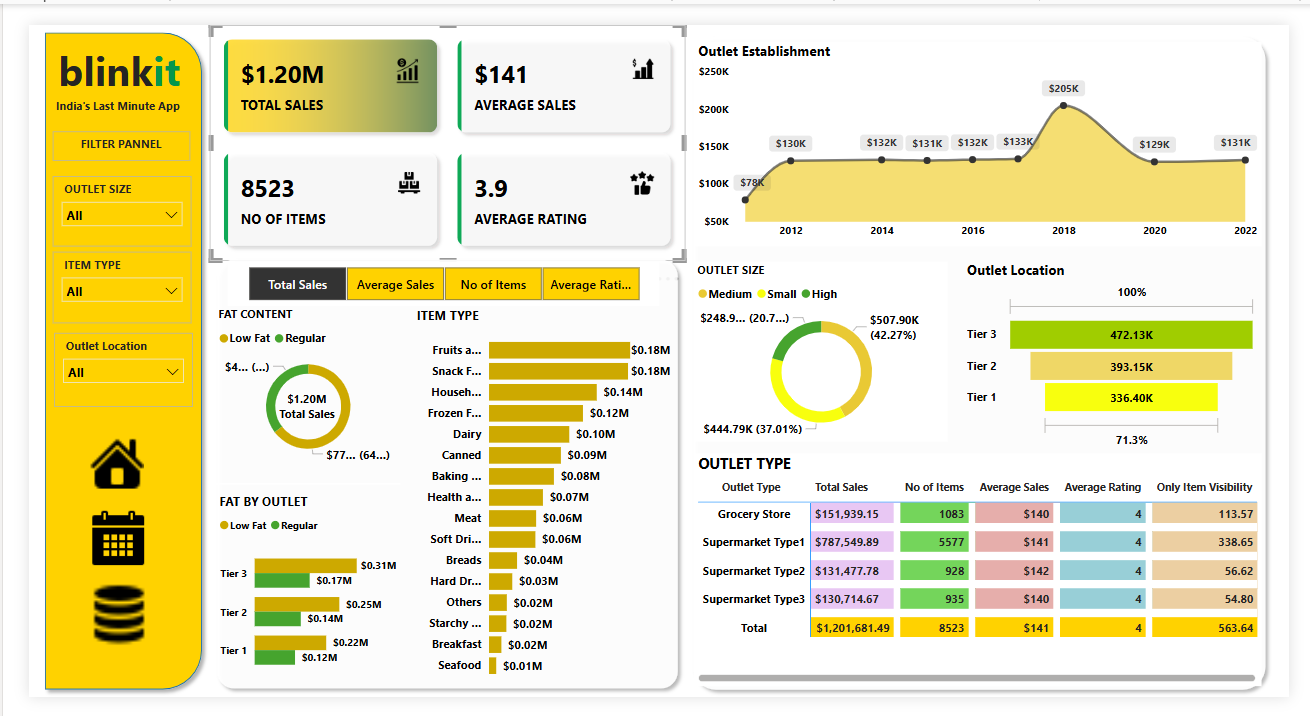

What the dashboard file says about the page in this screenshot:
{"tool":"powerbi","page":{"name":"Blinkit_Sales","canvas":[1500,800],"ordinal":0},"visuals":[{"type":"shape","box":[9.6,0,204.8,800.2],"z":0},{"type":"textbox","box":[24,14.4,168,112],"z":1000},{"type":"textbox","box":[24,81.6,171.2,44.8],"z":2000},{"type":"cardVisual","fields":{"Data":["BlinkIT Grocery Data.Total Sales","BlinkIT Grocery Data.Average Sales","BlinkIT Grocery Data.No of Items","BlinkIT Grocery Data.Average Rating"]},"box":[214.5,0,566.5,281.7],"z":3000},{"type":"shape","box":[214.5,270.5,566.5,529],"z":4000},{"type":"slicer","fields":{"Values":["Matrics.Matrics"]},"box":[236.9,281.7,513.7,52.8],"z":5000},{"type":"donutChart","title":"FAT CONTENT","fields":{"Y":["BlinkIT Grocery Data.Total Sales"],"Category":["BlinkIT Grocery Data.Item Fat Content"]},"box":[220.9,334.5,220.9,190.4],"z":6000},{"type":"cardVisual","fields":{"Data":["BlinkIT Grocery Data.Total Sales"]},"box":[273.7,411.3,115.2,84.8],"z":7000},{"type":"clusteredBarChart","title":"FAT BY OUTLET","fields":{"Y":["BlinkIT Grocery Data.Total Sales"],"Category":["BlinkIT Grocery Data.Outlet Location Type"],"Series":["BlinkIT Grocery Data.Item Fat Content"]},"box":[220.9,556.9,220.9,230.5],"z":8000},{"type":"shape","box":[214.5,534.5,227.3,22.4],"z":9000},{"type":"barChart","title":"ITEM TYPE","fields":{"Y":["BlinkIT Grocery Data.Total Sales"],"Category":["BlinkIT Grocery Data.Item Type"]},"box":[456.1,334.5,312.1,452.9],"z":10000},{"type":"shape","box":[781,4.8,699.4,795.4],"z":11000},{"type":"lineChart","title":"Outlet Establishment","fields":{"Y":["BlinkIT Grocery Data.Total Sales"],"Category":["BlinkIT Grocery Data.Outlet Establishment Year"]},"box":[792.2,19.2,675.4,243.3],"z":12000},{"type":"donutChart","title":"OUTLET SIZE","fields":{"Y":["BlinkIT Grocery Data.Total Sales"],"Category":["BlinkIT Grocery Data.Outlet Size"]},"box":[792.2,281.7,302.5,214.5],"z":13000},{"type":"funnel","title":" Outlet Location","fields":{"Y":["Sum(BlinkIT Grocery Data.Sales)"],"Category":["BlinkIT Grocery Data.Outlet Location Type"]},"box":[1112.3,280.1,355.3,230.5],"z":14000},{"type":"pivotTable","title":"OUTLET TYPE","fields":{"Values":["BlinkIT Grocery Data.Total Sales","BlinkIT Grocery Data.No of Items","BlinkIT Grocery Data.Average Sales","BlinkIT Grocery Data.Average Rating","Sum(BlinkIT Grocery Data.Item Visibility)"],"Rows":["BlinkIT Grocery Data.Outlet Type"]},"box":[792.2,510.5,675.4,276.9],"z":15000},{"type":"slicer","fields":{"Values":["BlinkIT Grocery Data.Outlet Location Type"]},"box":[30.4,366.5,164.8,88],"z":16000},{"type":"slicer","fields":{"Values":["BlinkIT Grocery Data.Outlet Size"]},"box":[28.8,179.2,164.8,83.2],"z":17000},{"type":"slicer","fields":{"Values":["BlinkIT Grocery Data.Item Type"]},"box":[28.8,270.5,164.8,84.8],"z":18000},{"type":"textbox","box":[28.8,126.4,163.2,35.2],"z":19000},{"type":"image","box":[43.2,483.3,123.2,73.6],"z":19001},{"type":"image","box":[64,572.9,86.4,76.8],"z":19002},{"type":"image","box":[57.6,649.8,97.6,100.8],"z":19003}]}

Visuals, with their boxes in screenshot pixels (x1, y1, x2, y2), scaled from the page's 1500x800 canvas onto the 1310x716 screenshot:
shape: <bbox>8, 0, 187, 715</bbox>
textbox: <bbox>21, 13, 168, 113</bbox>
textbox: <bbox>21, 73, 170, 113</bbox>
cardVisual - BlinkIT Grocery Data.Total Sales x BlinkIT Grocery Data.Average Sales: <bbox>187, 0, 682, 252</bbox>
shape: <bbox>187, 242, 682, 715</bbox>
slicer - Matrics.Matrics: <bbox>207, 252, 656, 299</bbox>
"FAT CONTENT" donutChart: <bbox>193, 299, 386, 470</bbox>
cardVisual - BlinkIT Grocery Data.Total Sales: <bbox>239, 368, 340, 444</bbox>
"FAT BY OUTLET" clusteredBarChart: <bbox>193, 498, 386, 705</bbox>
shape: <bbox>187, 478, 386, 498</bbox>
"ITEM TYPE" barChart: <bbox>398, 299, 671, 705</bbox>
shape: <bbox>682, 4, 1293, 715</bbox>
"Outlet Establishment" lineChart: <bbox>692, 17, 1282, 235</bbox>
"OUTLET SIZE" donutChart: <bbox>692, 252, 956, 444</bbox>
" Outlet Location" funnel: <bbox>971, 251, 1282, 457</bbox>
"OUTLET TYPE" pivotTable: <bbox>692, 457, 1282, 705</bbox>
slicer - BlinkIT Grocery Data.Outlet Location Type: <bbox>27, 328, 170, 407</bbox>
slicer - BlinkIT Grocery Data.Outlet Size: <bbox>25, 160, 169, 235</bbox>
slicer - BlinkIT Grocery Data.Item Type: <bbox>25, 242, 169, 318</bbox>
textbox: <bbox>25, 113, 168, 145</bbox>
image: <bbox>38, 433, 145, 498</bbox>
image: <bbox>56, 513, 131, 581</bbox>
image: <bbox>50, 582, 136, 672</bbox>
